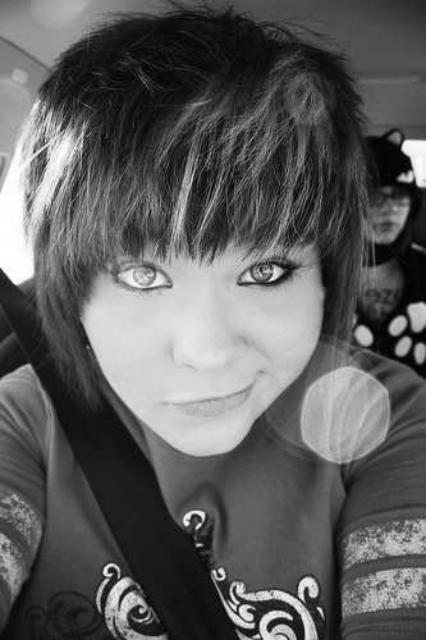SafeDriving: (224, 236, 308, 295), (104, 244, 182, 300)
Seatbelt: (0, 258, 248, 640)
